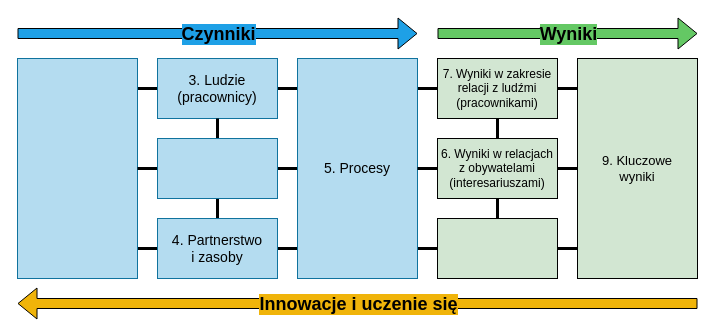
Image size: 715x336. Some labels were removed from this diagram. Here are the shapes that lost their labels. From the top down, the centre of each, then its label:
pixel 77 168: 1. Przywództwo
pixel 217 168: 2. Strategia i planowanie
pixel 497 248: 8. Wyniki w zakresie społecznej odpowiedzialności
